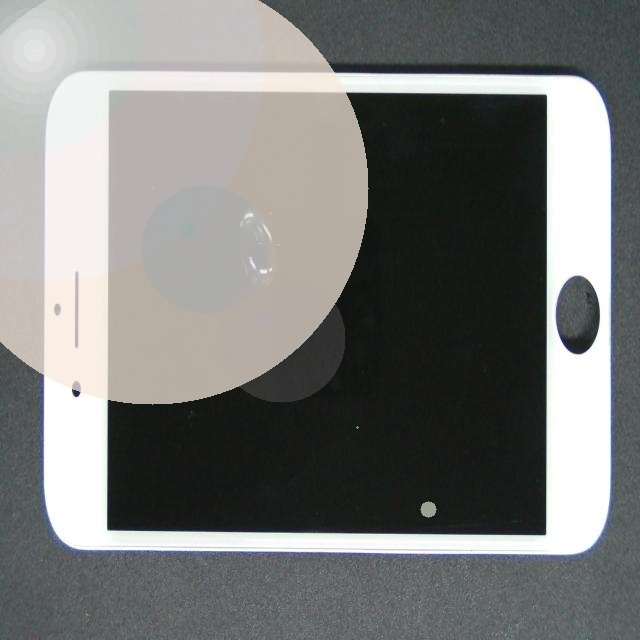oil: (152, 135, 402, 336)
